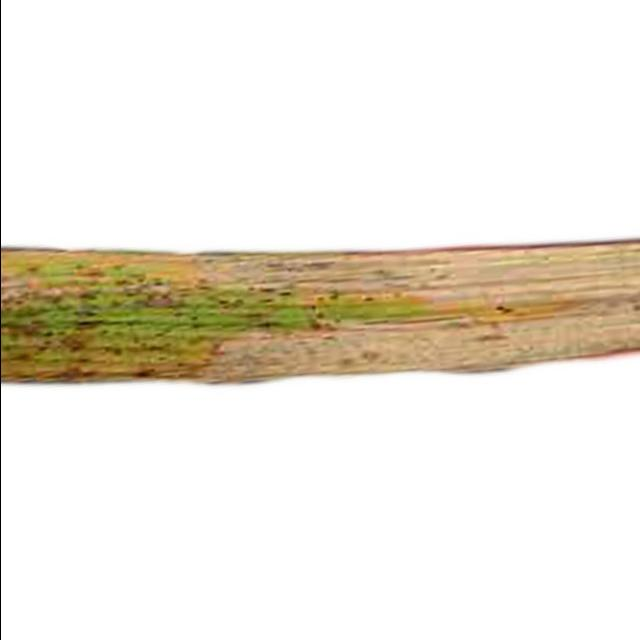Leaf scald: (0, 92, 640, 454)
